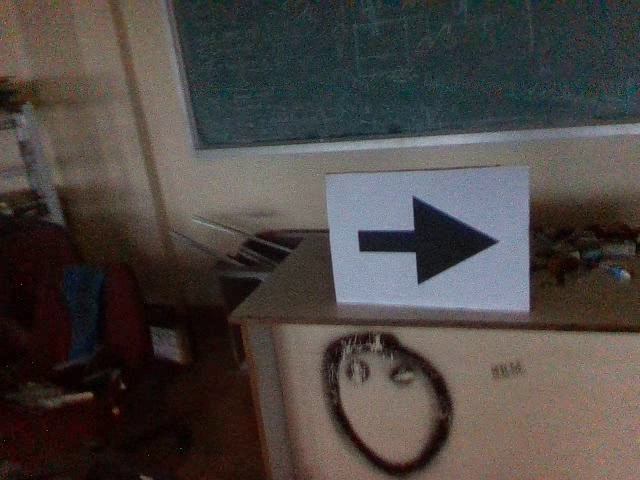Right: (348, 189, 502, 290)
